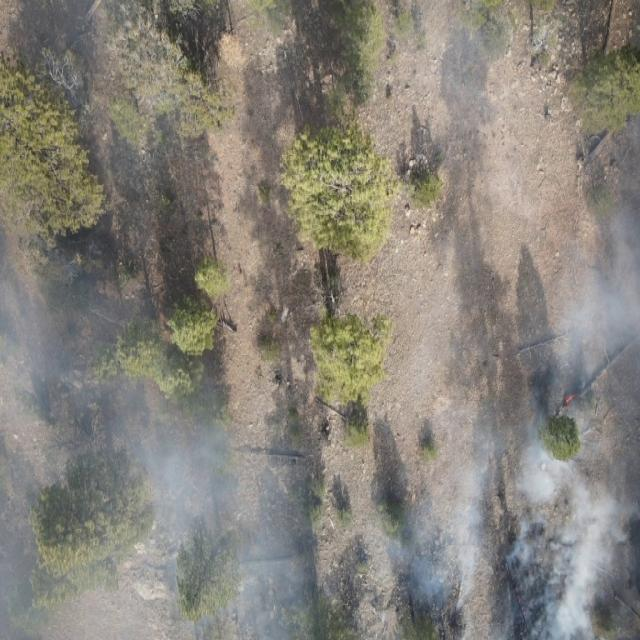fire: (515, 586, 530, 623), (563, 392, 576, 406), (448, 626, 458, 636)
smoke: (227, 411, 640, 640), (0, 255, 227, 639), (545, 114, 640, 412)
